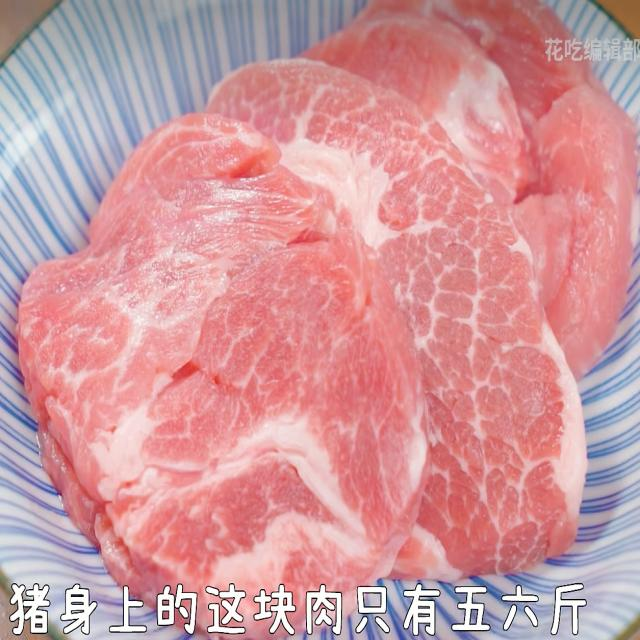pork: (33, 112, 417, 586), (232, 52, 584, 569), (341, 0, 636, 358)
